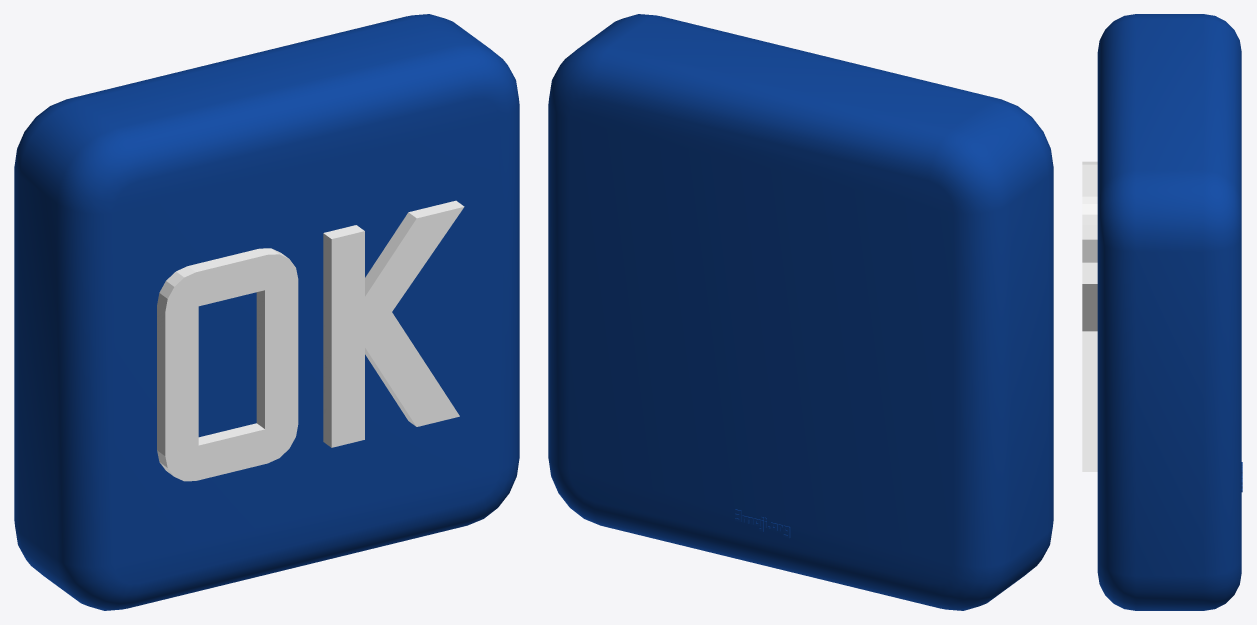
Rendered from ok_button.glb.
3 views of the same model, side by side, from view 1: azimuth 30°, elevation 25°; view 2: azimuth 150°, elevation 25°; view 3: azimuth 270°, elevation 25° (orthographic). The views are drawn at different scales.
Visible parts, largest first — view 1: Cube.6644; view 2: Cube.6644; view 3: Cube.6644.
Boxes of the visible parts, <box> form: Cube.6644: <box>14,14,519,610</box>; Cube.6644: <box>548,14,1053,610</box>; Cube.6644: <box>1082,14,1242,610</box>.
Bounding box in the file's own units: 2.2 × 2.2 × 0.7337.
Materials: 1 (1 with a texture image).
